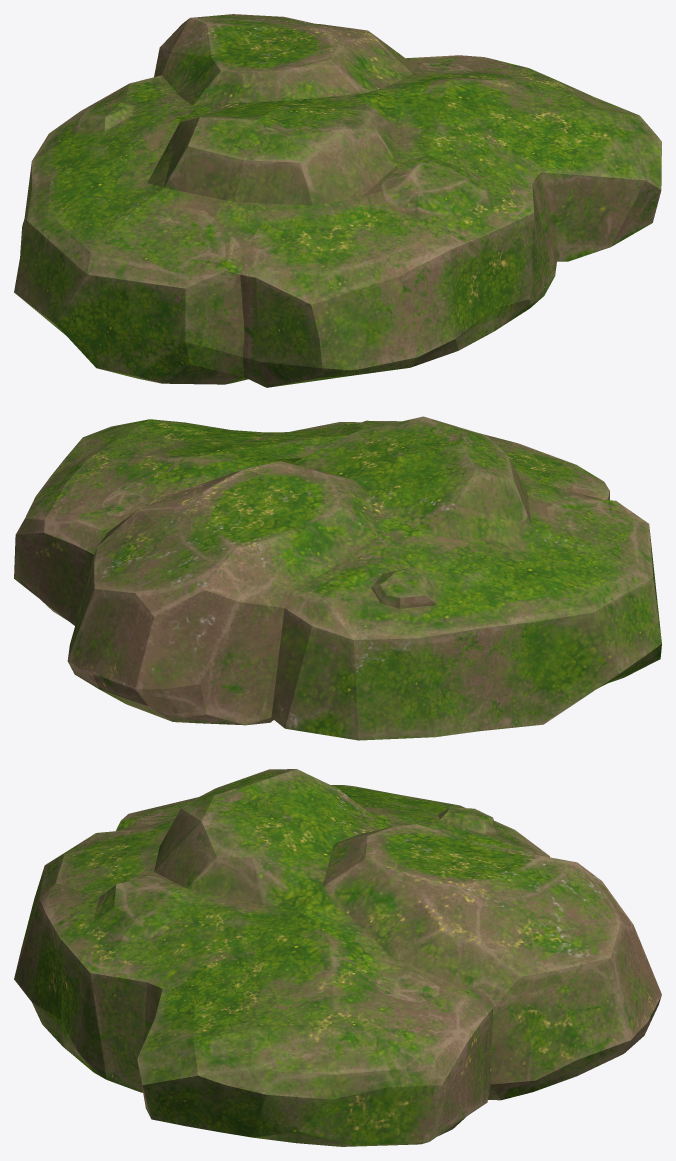
The model's file is sb_obj_nature007_Rock04f.fbx.
3 renders of one model, top to bottom at view 1: azimuth 30°, elevation 25°; view 2: azimuth 150°, elevation 25°; view 3: azimuth 270°, elevation 25°, orthographic. The views are drawn at different scales.
Parts seen in each view (by area): view 1: sb_obj_nature007_Rock04f; view 2: sb_obj_nature007_Rock04f; view 3: sb_obj_nature007_Rock04f.
Boxes of the visible parts, x1=… form: sb_obj_nature007_Rock04f: x1=14, y1=14, x2=661, y2=387; sb_obj_nature007_Rock04f: x1=14, y1=416, x2=661, y2=740; sb_obj_nature007_Rock04f: x1=14, y1=769, x2=661, y2=1146.
Bounding box in the file's own units: 4.46 × 1.54 × 4.03.
